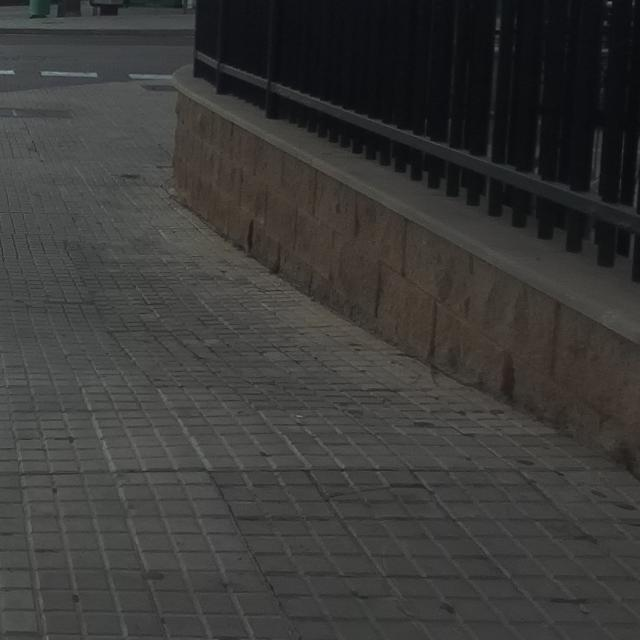calcada_quebrada: (325, 485, 391, 502)
